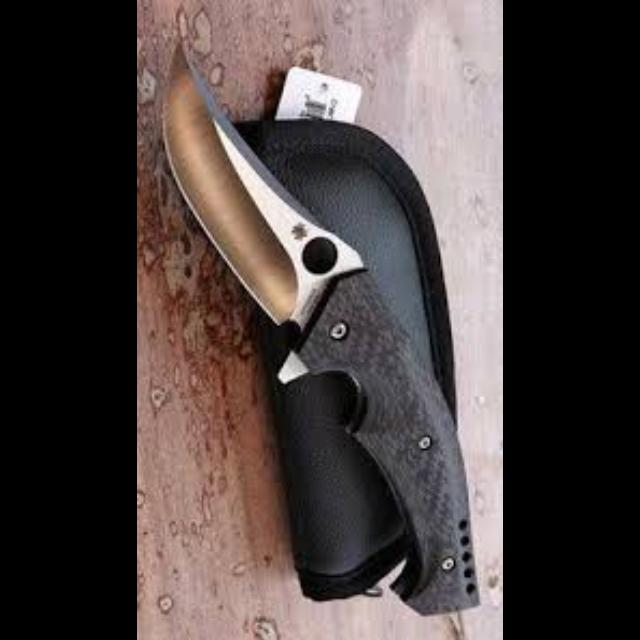Knife: (161, 36, 479, 614)
